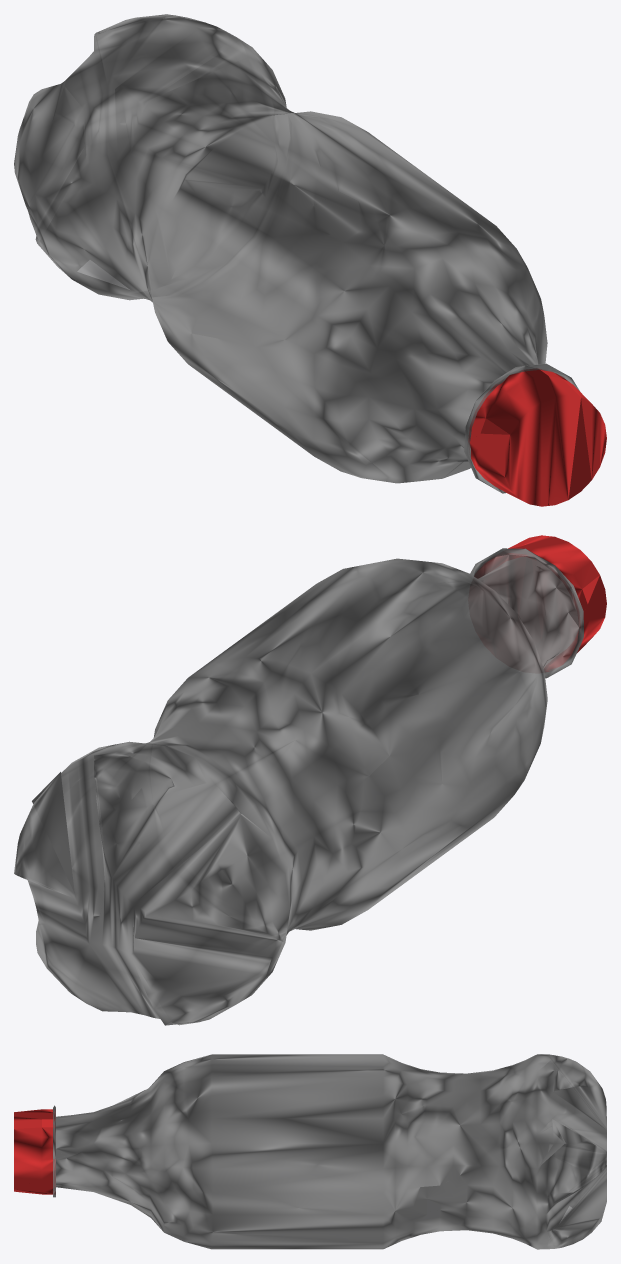
The model's file is model_align.obj.
The picture shows the model from 3 angles, top to bottom: view 1: azimuth 30°, elevation 25°; view 2: azimuth 150°, elevation 25°; view 3: azimuth 270°, elevation 25°; orthographic projection. The views are drawn at different scales.
Size of the model in its own units: 0.0703 by 0.0703 by 0.2129.
